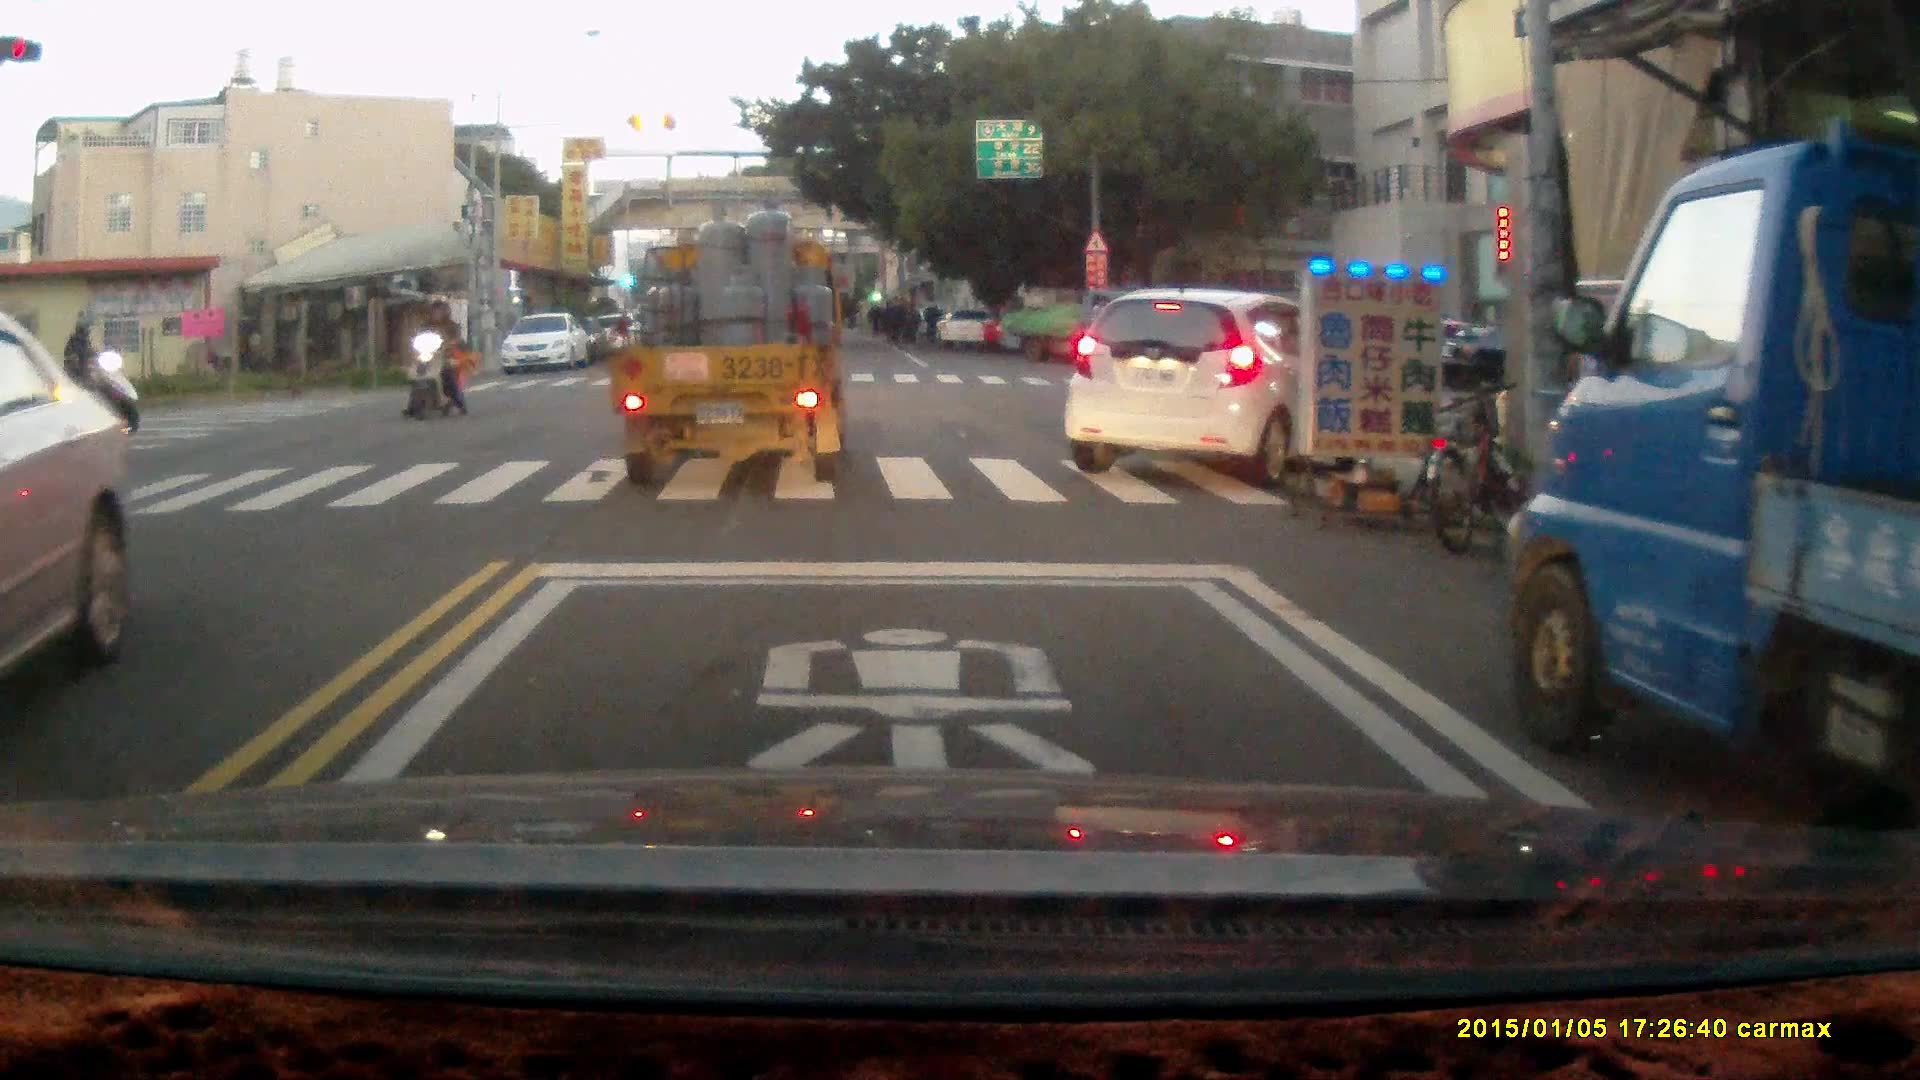rider: (46, 312, 137, 433), (402, 298, 466, 422)
vehicle: (1506, 132, 1920, 794), (606, 213, 850, 492), (1, 312, 138, 709), (1062, 288, 1348, 469), (1002, 284, 1169, 367), (504, 312, 588, 379)
